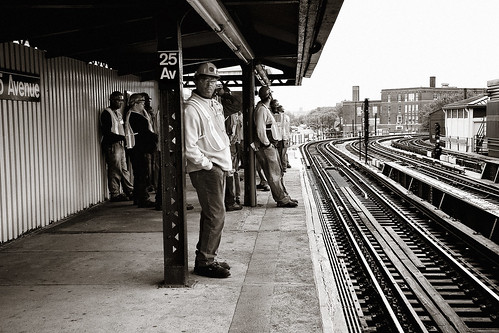person hardhat: (181, 57, 248, 286), (125, 91, 162, 207), (248, 83, 275, 215), (100, 89, 132, 198), (271, 98, 279, 161)
